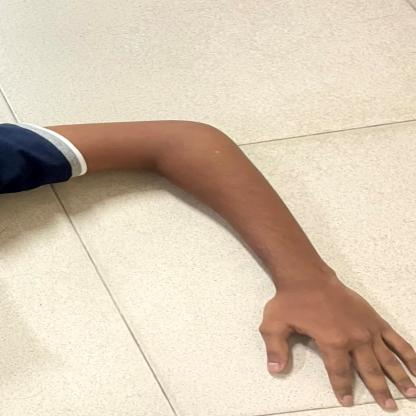hand: (119, 105, 416, 416)
